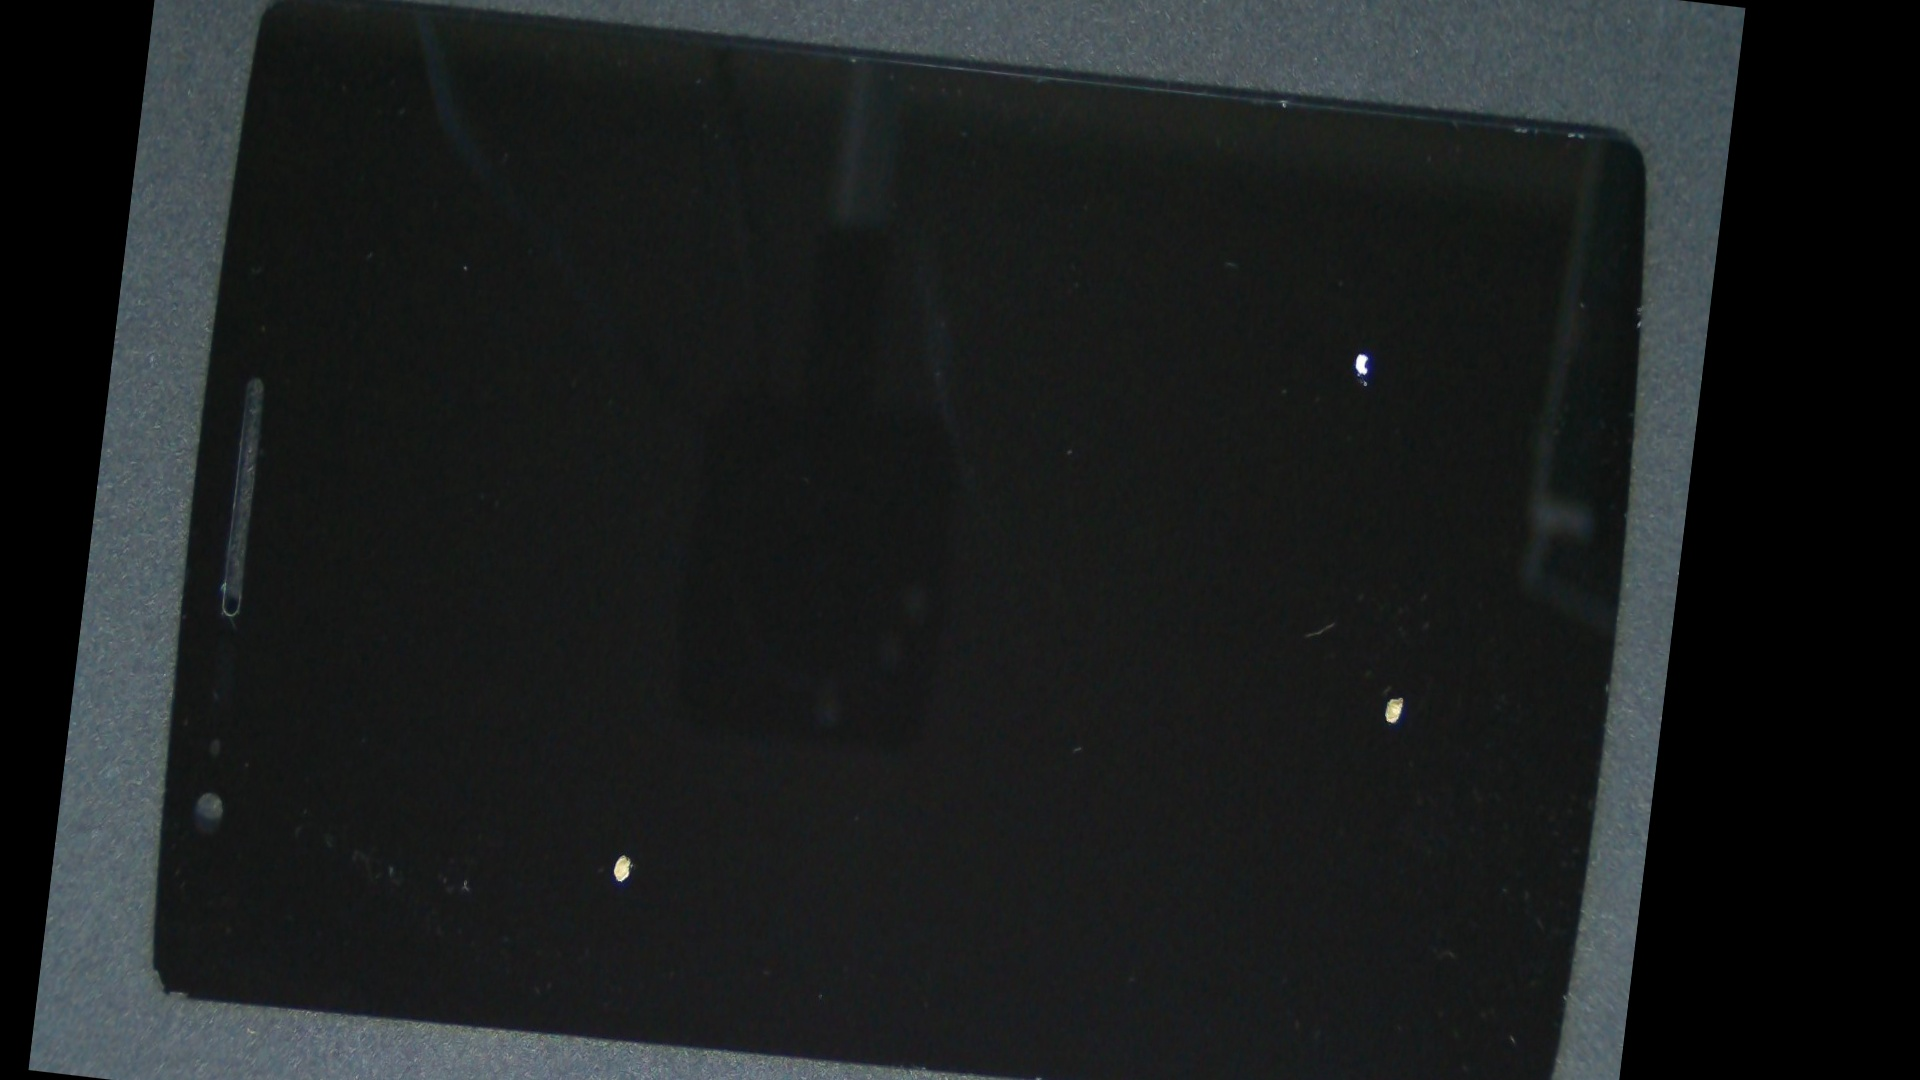oil: (703, 258, 1704, 1080), (725, 87, 1724, 584), (311, 334, 960, 1080)
